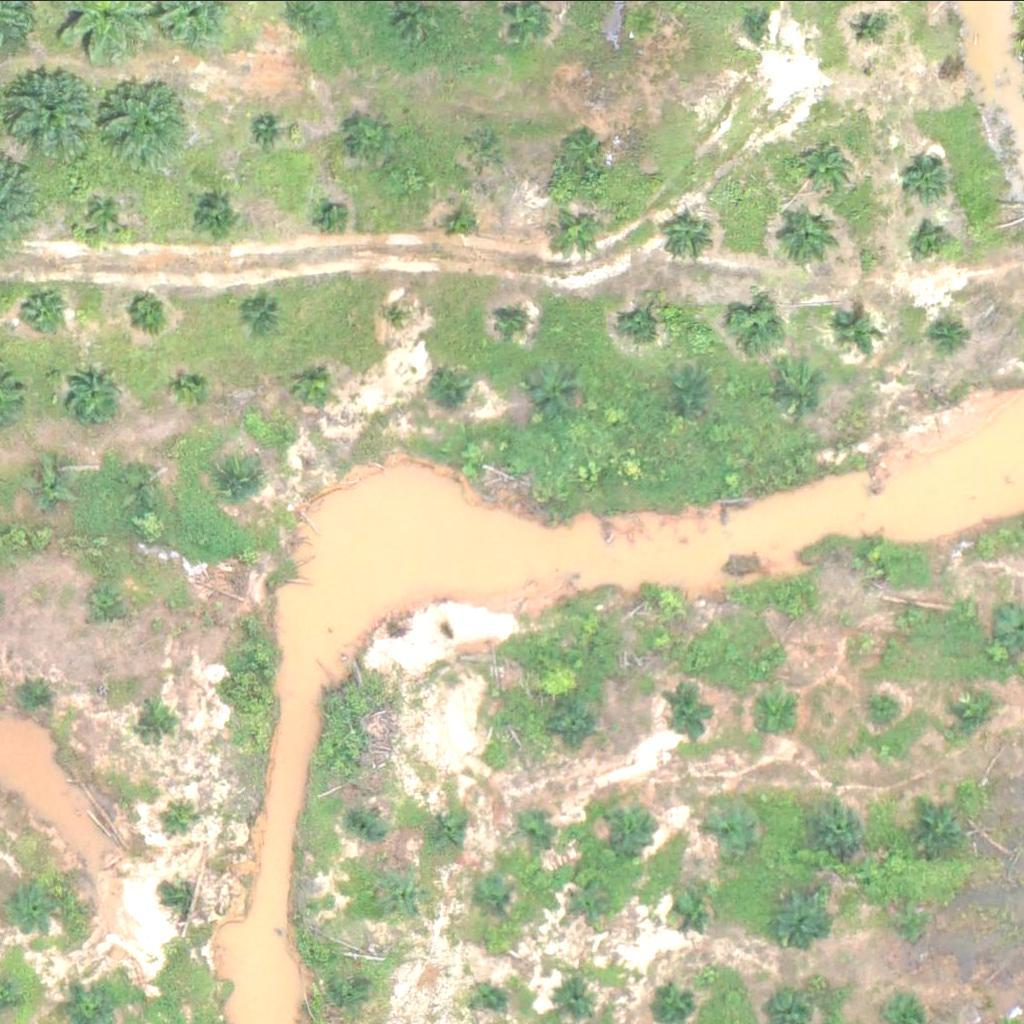Kelapa_Sawit: (99, 77, 187, 165), (7, 65, 95, 153), (769, 891, 832, 954), (705, 794, 768, 857), (794, 136, 857, 199), (65, 364, 128, 426), (776, 203, 839, 265), (812, 800, 863, 850), (915, 801, 966, 851), (559, 119, 610, 169), (947, 690, 998, 740), (553, 206, 604, 256), (292, 360, 343, 410), (25, 457, 76, 507), (603, 799, 653, 849), (9, 881, 59, 931), (624, 298, 674, 348), (733, 300, 783, 350), (666, 211, 716, 261), (902, 151, 952, 201), (667, 686, 717, 736), (757, 688, 807, 738), (348, 111, 398, 161), (188, 192, 238, 242), (532, 364, 582, 414), (552, 695, 602, 745), (79, 189, 129, 239), (15, 284, 65, 334), (783, 362, 833, 412), (838, 313, 876, 351), (929, 312, 967, 350), (912, 225, 950, 263), (889, 599, 927, 637), (776, 589, 814, 627), (651, 583, 689, 621), (433, 372, 471, 410), (469, 973, 507, 1011), (511, 805, 549, 843), (424, 805, 462, 843), (349, 806, 387, 844), (849, 7, 887, 44), (851, 536, 889, 573), (625, 2, 662, 40), (470, 128, 507, 166), (177, 369, 214, 407), (671, 373, 709, 410), (140, 704, 178, 741), (123, 462, 160, 500), (125, 290, 163, 327), (164, 800, 202, 837), (553, 977, 590, 1015), (349, 963, 387, 1000), (386, 878, 424, 915), (478, 873, 516, 910), (574, 883, 612, 920), (891, 902, 929, 939), (870, 690, 907, 727), (249, 294, 286, 331), (221, 462, 258, 499), (13, 682, 50, 719), (91, 585, 128, 622), (678, 892, 715, 929), (170, 889, 196, 914), (746, 13, 771, 38), (319, 205, 344, 230), (449, 212, 474, 237), (388, 300, 413, 325), (500, 306, 525, 331), (255, 118, 280, 142)
